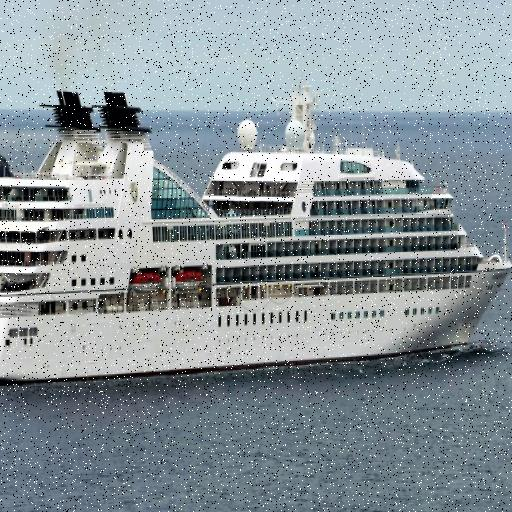cruises: (1, 77, 512, 398)
